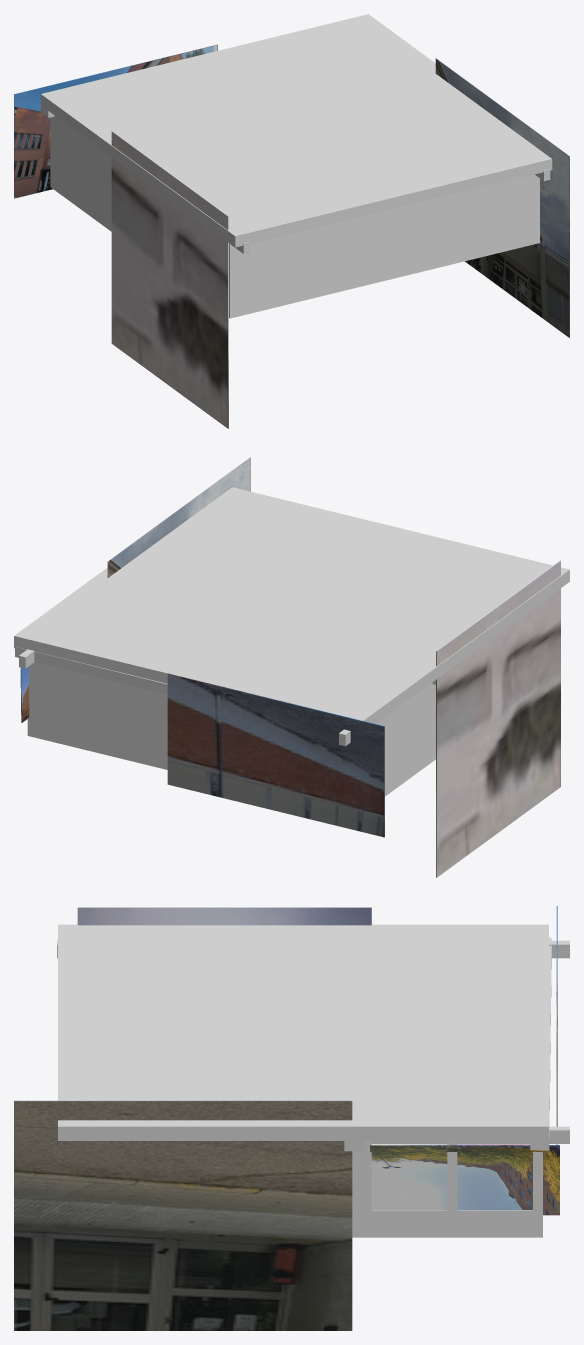
File: museo.glb
3 renders of one model, top to bottom at view 1: azimuth 30°, elevation 25°; view 2: azimuth 150°, elevation 25°; view 3: azimuth 270°, elevation 25°, orthographic. The views are drawn at different scales.
Parts seen in each view (by area): view 1: Cube.013, Cube, Cube.011, Cube.010, Cube.012; view 2: Cube.013, Cube.011, Cube.012, Cube, Cube.010, Cube.005; view 3: Cube.013, Cube.010, Cube.009, Cube, Cube.011, Cube.007, Cube.005.
Part boxes in pixels (x1,y1,x2,y2): Cube.013: (41, 14, 552, 247); Cube: (50, 116, 539, 318); Cube.011: (111, 131, 228, 428); Cube.010: (435, 58, 569, 337); Cube.012: (14, 44, 217, 198); Cube.013: (14, 487, 569, 723); Cube.011: (436, 560, 560, 877); Cube.012: (167, 673, 384, 837); Cube: (27, 662, 435, 796); Cube.010: (107, 457, 250, 577); Cube.005: (15, 646, 167, 694); Cube.013: (58, 924, 548, 1140); Cube.010: (14, 1100, 352, 1330); Cube.009: (370, 1144, 559, 1215); Cube: (352, 1141, 542, 1237); Cube.011: (77, 907, 371, 925); Cube.007: (371, 1126, 569, 1143); Cube.005: (530, 937, 551, 1150).
Size of the model in its own units: 640 by 373 by 695.
Materials: 11 (4 with a texture image).
